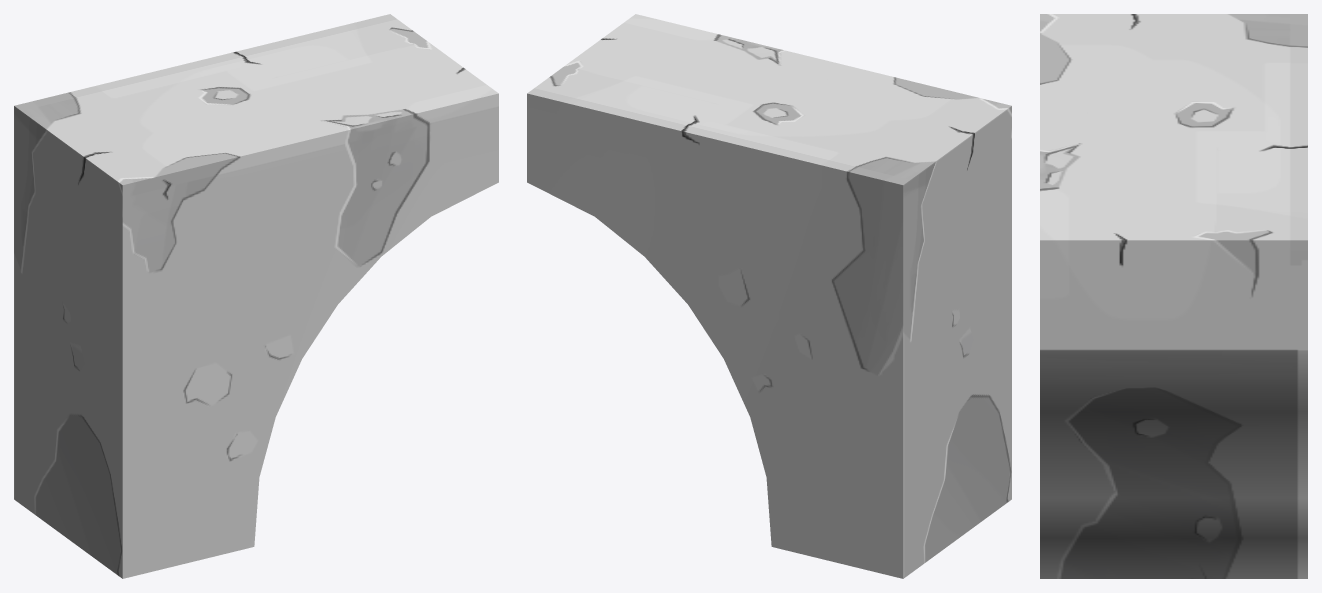
File: LedgeCurve_Mod.FBX
The picture shows the model from 3 angles, left to right: view 1: azimuth 30°, elevation 25°; view 2: azimuth 150°, elevation 25°; view 3: azimuth 270°, elevation 25°; orthographic projection. The views are drawn at different scales.
Visible parts, largest first — view 1: LedgeCurve; view 2: LedgeCurve; view 3: LedgeCurve.
Part boxes in pixels (box(x1,y1,x2,y2)): LedgeCurve: box(14, 14, 498, 578); LedgeCurve: box(527, 14, 1011, 578); LedgeCurve: box(1040, 14, 1307, 578).
Size of the model in its own units: 78.74 by 78.74 by 39.37.
1 material, 1 textured.
